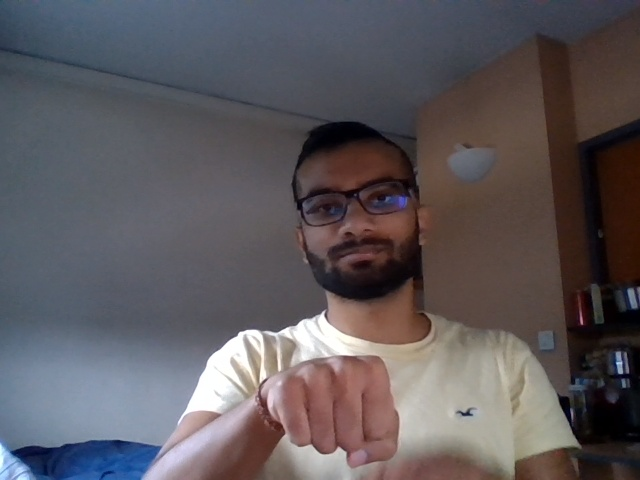Yes: (243, 346, 410, 469)
